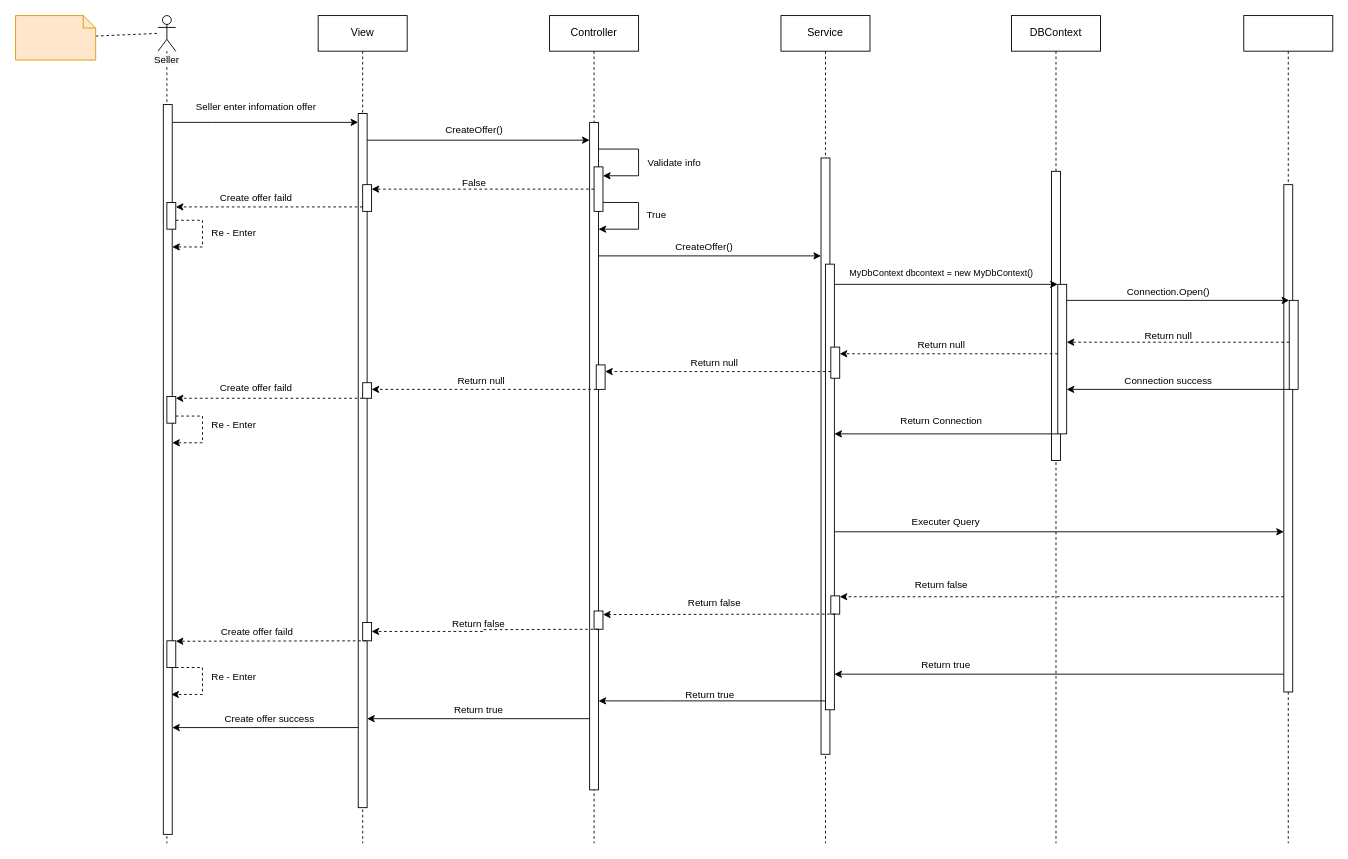
Some shapes in this 1348 by 859 pixel diagram are drawn without their labels. The box of each missing label's shape, as (x1, y1, x2, y2) in pixels:
Buyer registered to do seller: (15, 15, 96, 60)
Database: (1243, 15, 1333, 843)
